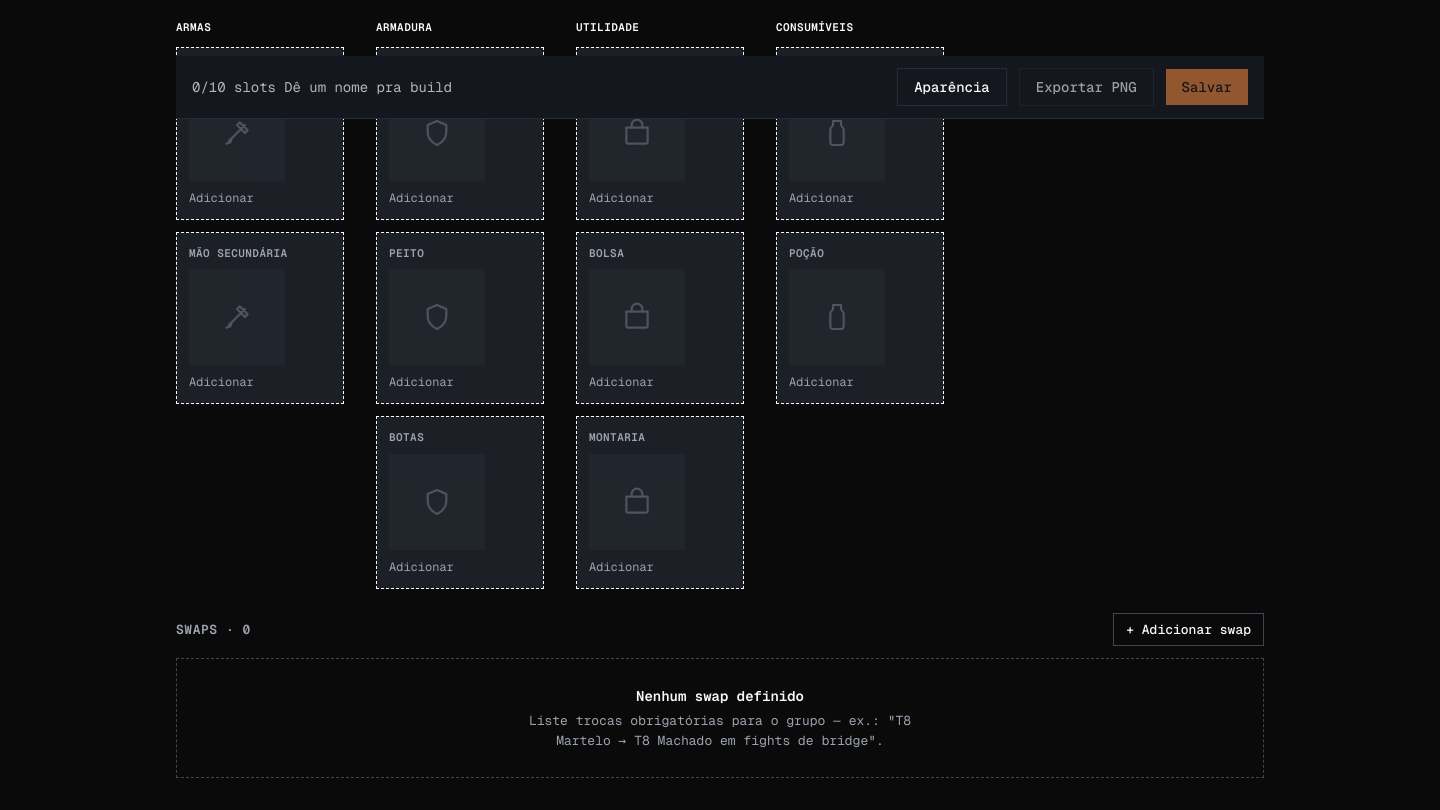
Test: /build/new — Swaps section (ACM-012, RF-3) › renders the empty state and adding a swap via the real route reaches the store
(page scrolled)
Check: the text "Nenhum swap definido" is shown, box [636,686,804,707]
Click the button "+ Adicionar swap". click: (1189, 629)
box: [1113,612,1264,646]
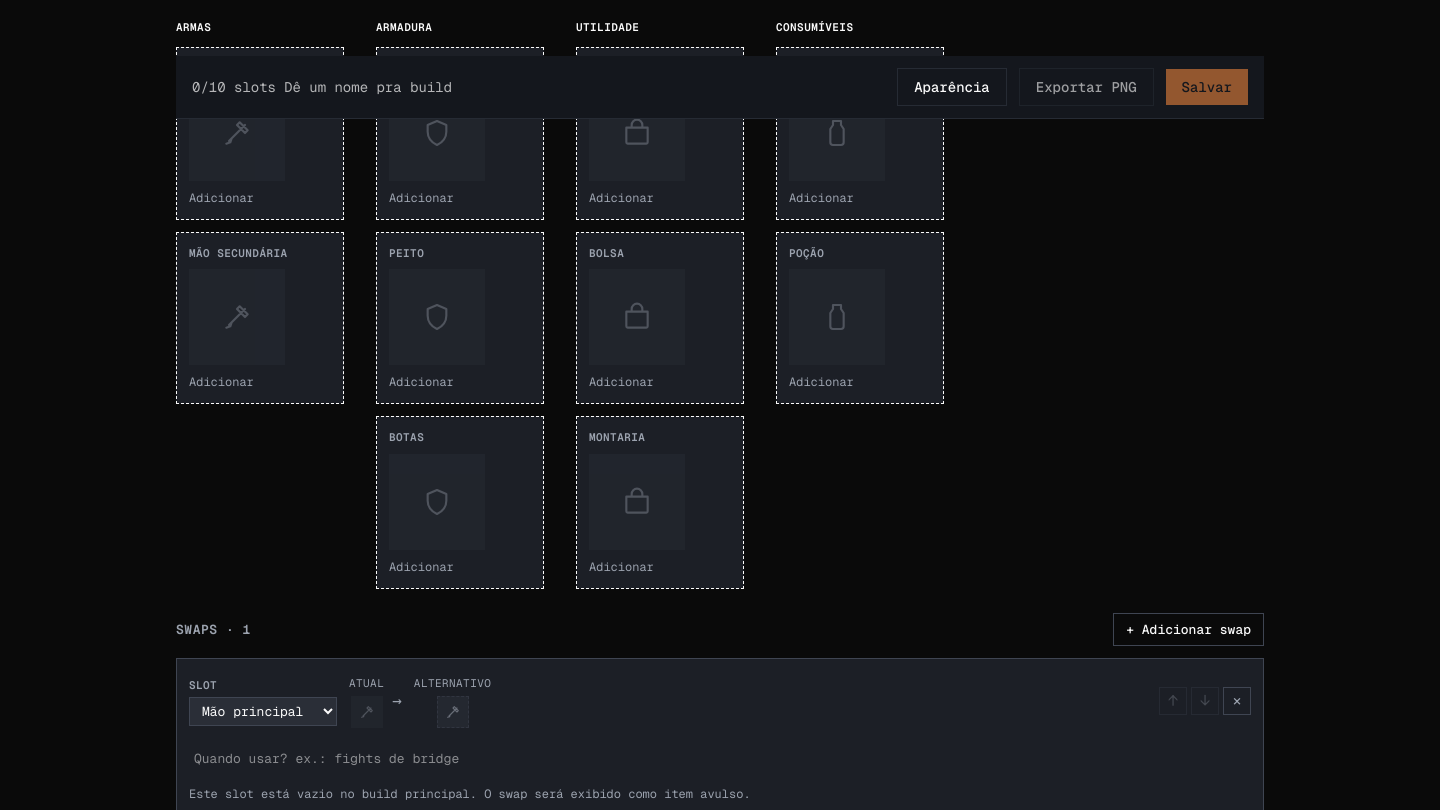
Check: the text "Nenhum swap definido" is gone
